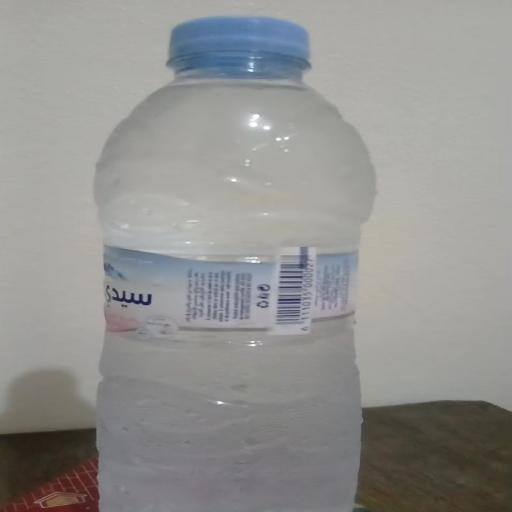bouteille conformite: (95, 16, 374, 511), (99, 319, 359, 511), (96, 120, 297, 260)
